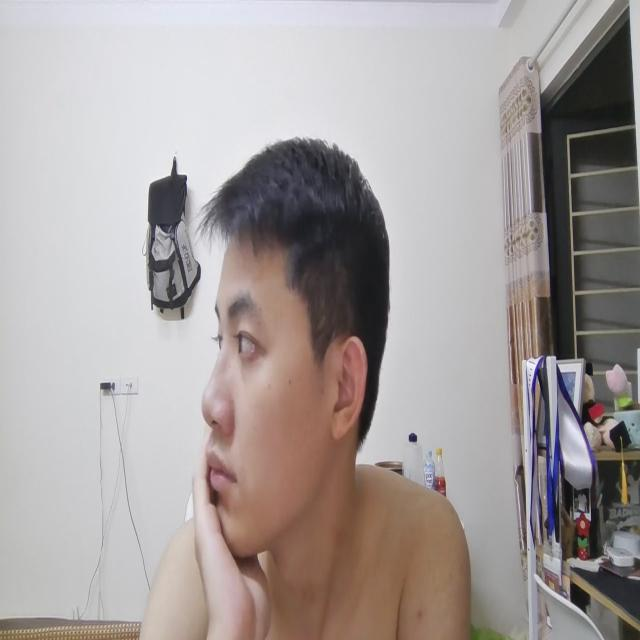student: (195, 118, 394, 622)
